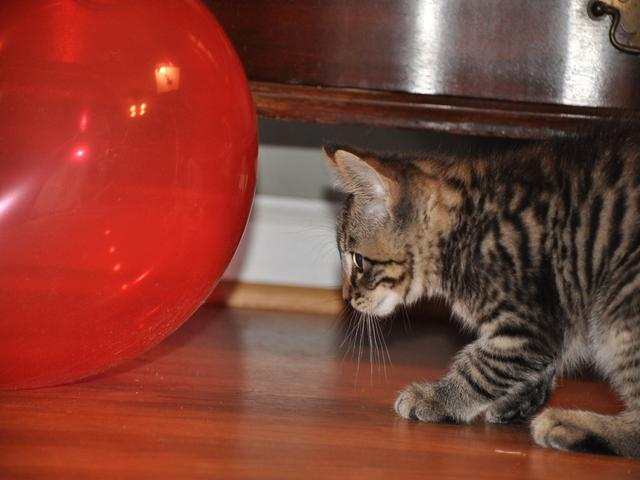cat: (287, 108, 630, 431)
